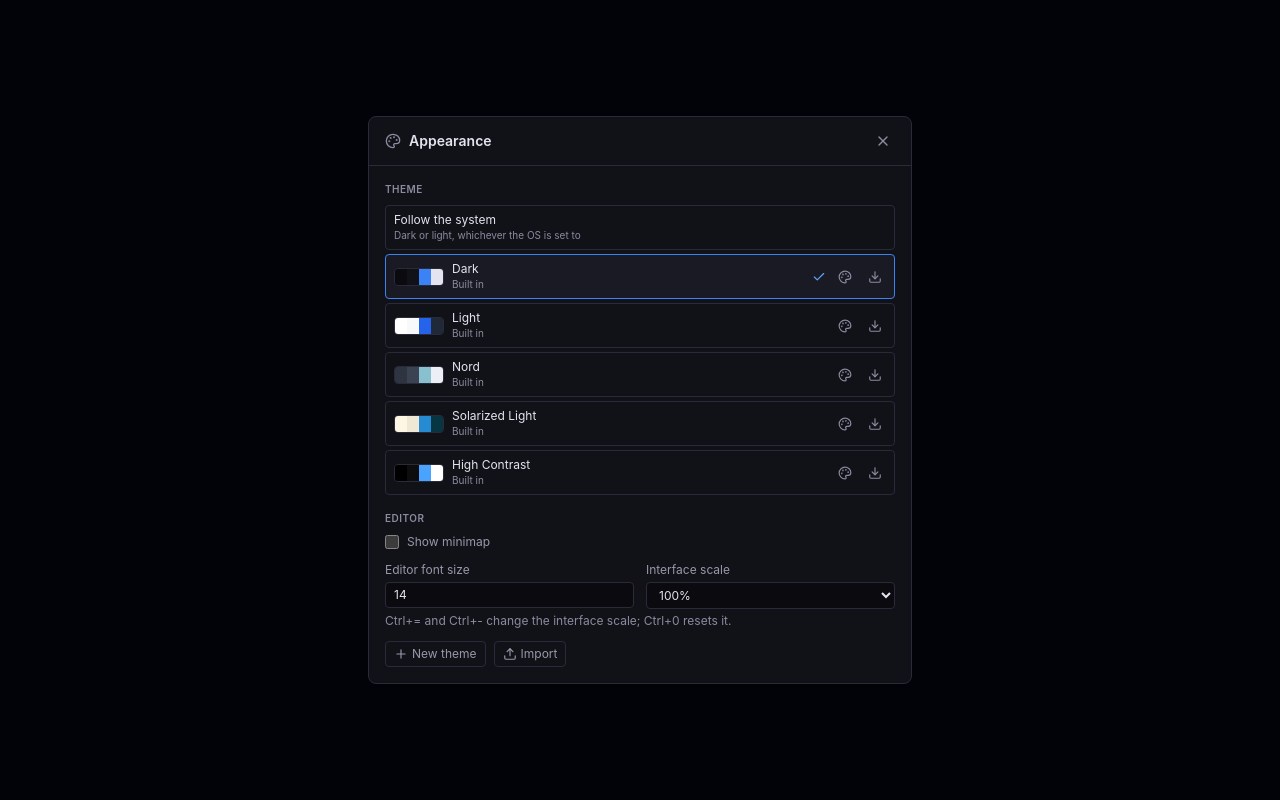
Test: ThemeSettingsDialog (#350) › editing › warns when text would be unreadable, without blocking the edit
The width and height of the screenshot is (1280, 800).
Step 1. Click the button named "Edit Dark" → click(845, 276), box [834,266,856,288]
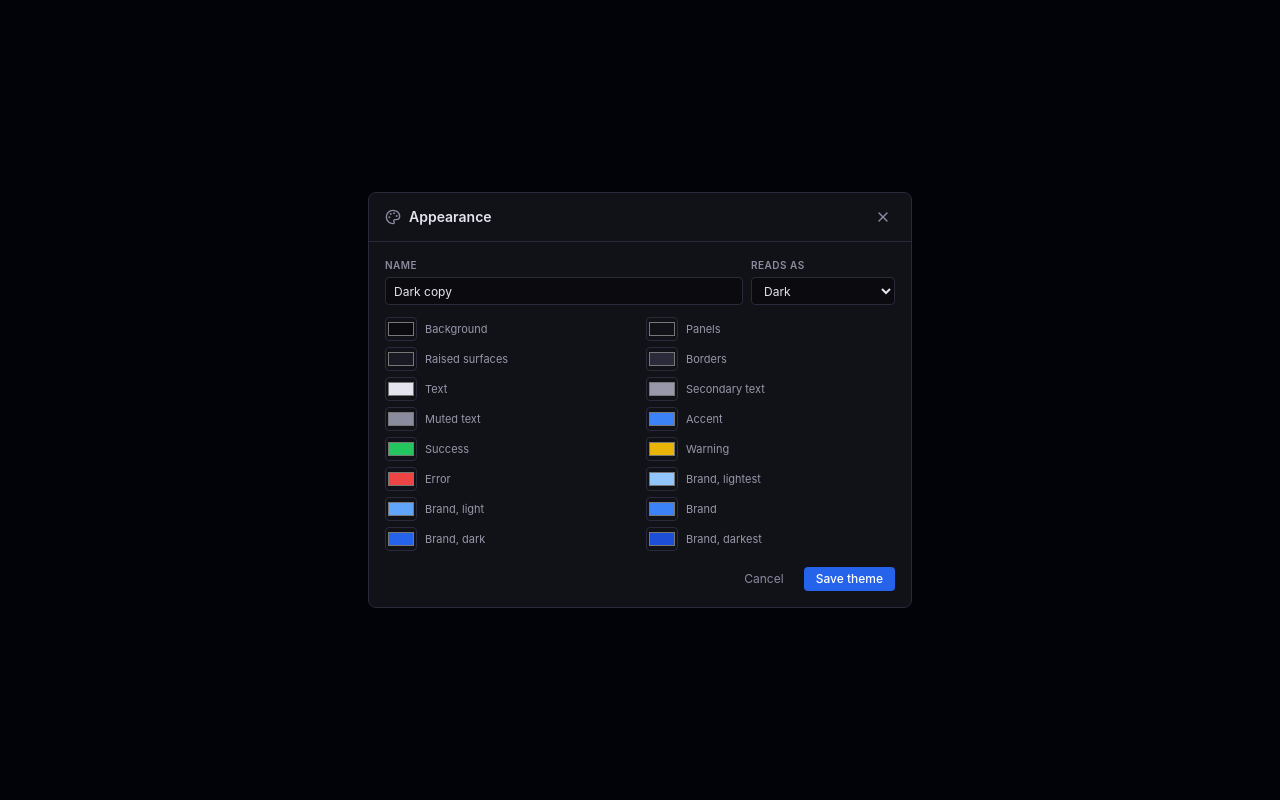
Step 2. Type "#0a0a0f" into the colour field labelled "Text" → (401, 389), box [385,377,417,401]
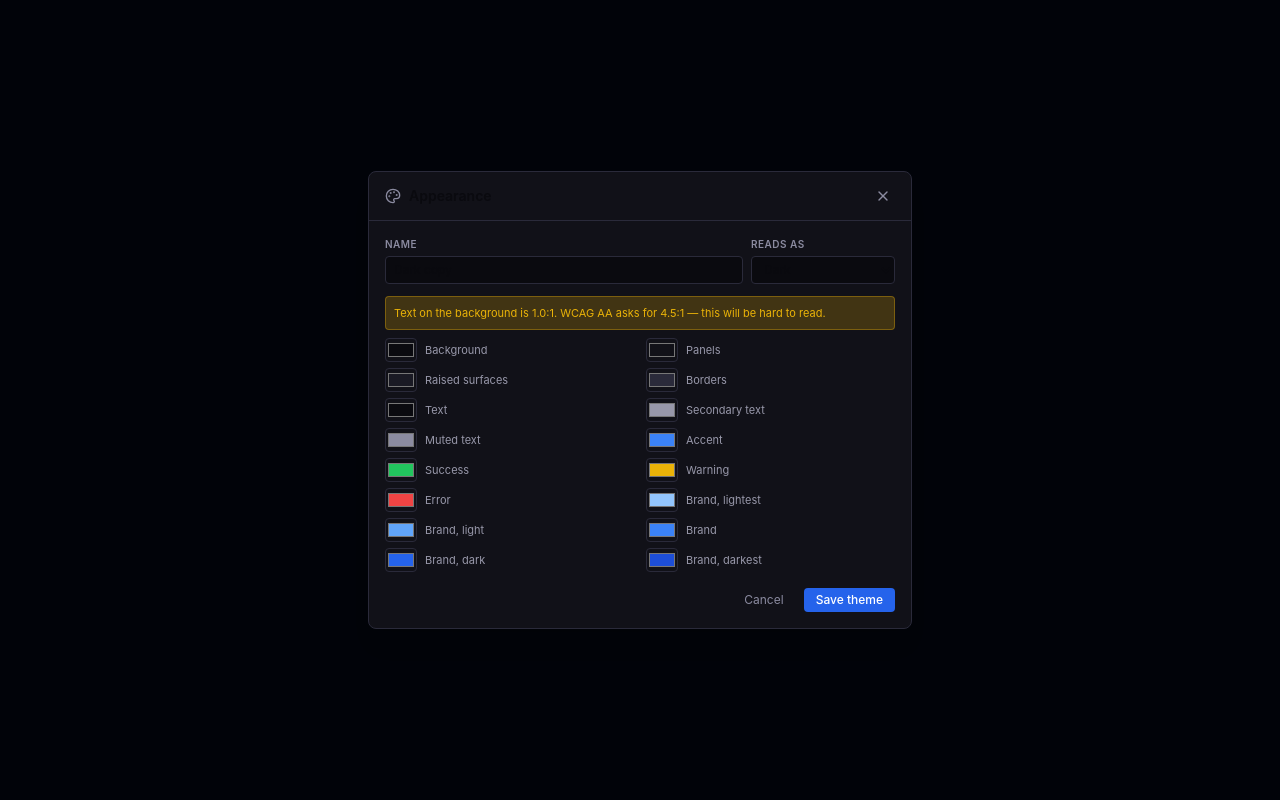
Result: the button "Save theme" is enabled at [804,588,895,612]
Result: the message shows "WCAG AA" at [546,306,657,320]
